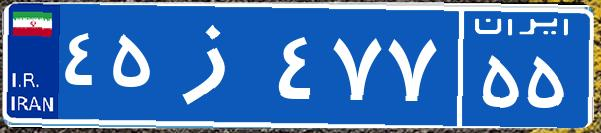4: (273, 28, 330, 110), (57, 26, 110, 107)
5: (475, 38, 525, 113), (110, 28, 158, 105), (525, 38, 570, 115)
7: (385, 28, 445, 110), (330, 28, 385, 110)
ز: (158, 15, 273, 115)
